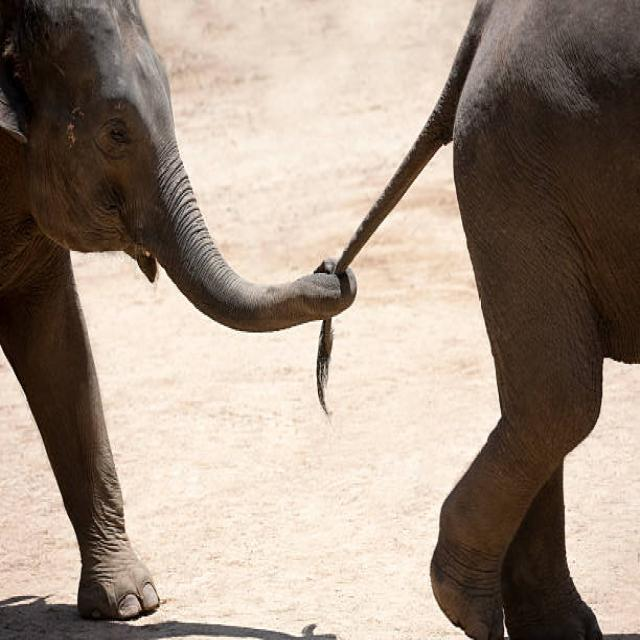Elephant: (0, 0, 335, 611), (409, 8, 640, 638)
